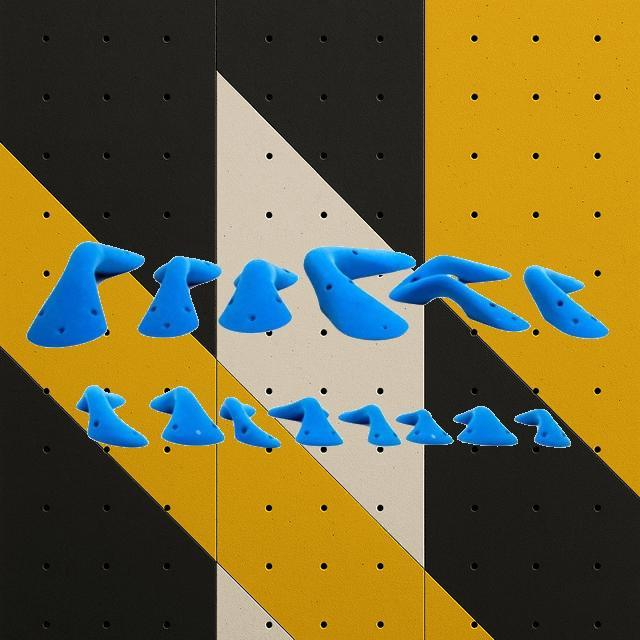Jug: (26, 240, 144, 348), (388, 254, 530, 332), (303, 244, 415, 340), (138, 255, 222, 337), (524, 264, 608, 340), (218, 258, 298, 334), (76, 384, 148, 448), (148, 386, 224, 446), (267, 396, 343, 446), (220, 398, 280, 446), (454, 406, 516, 446), (340, 405, 402, 445), (514, 408, 570, 448), (396, 410, 454, 444)
